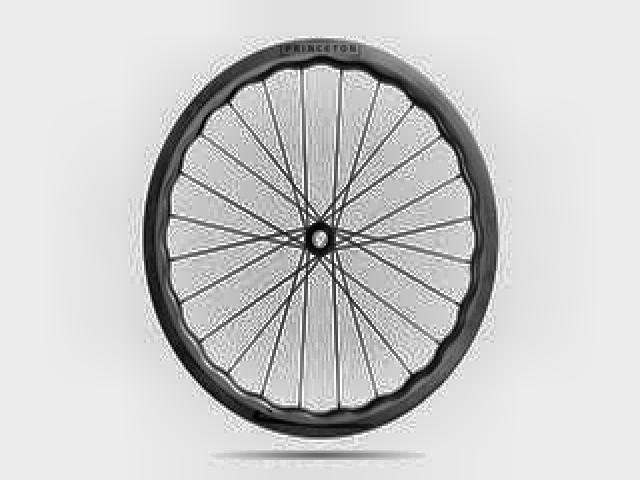wheel: (138, 34, 500, 442)
